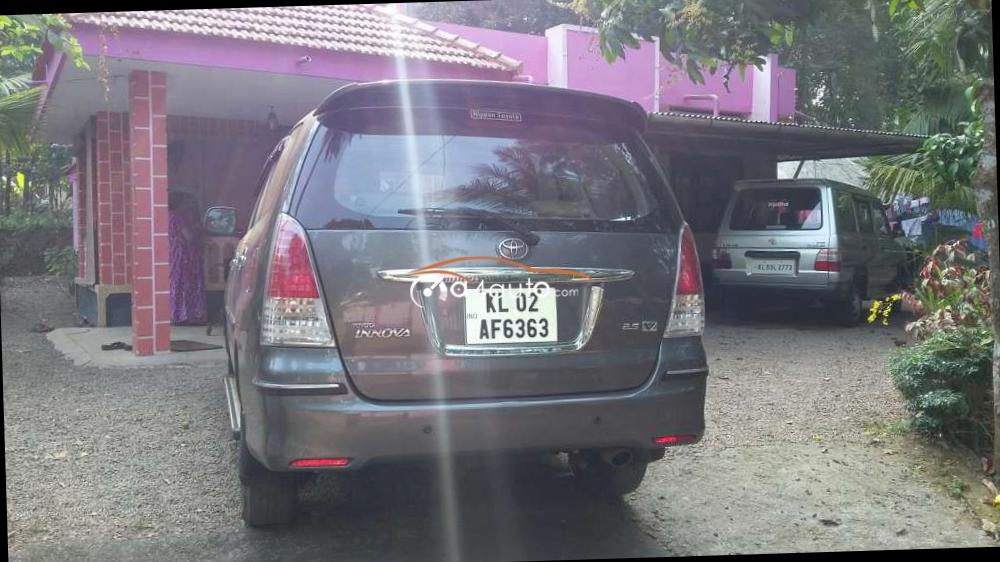plate: (449, 274, 570, 357)
